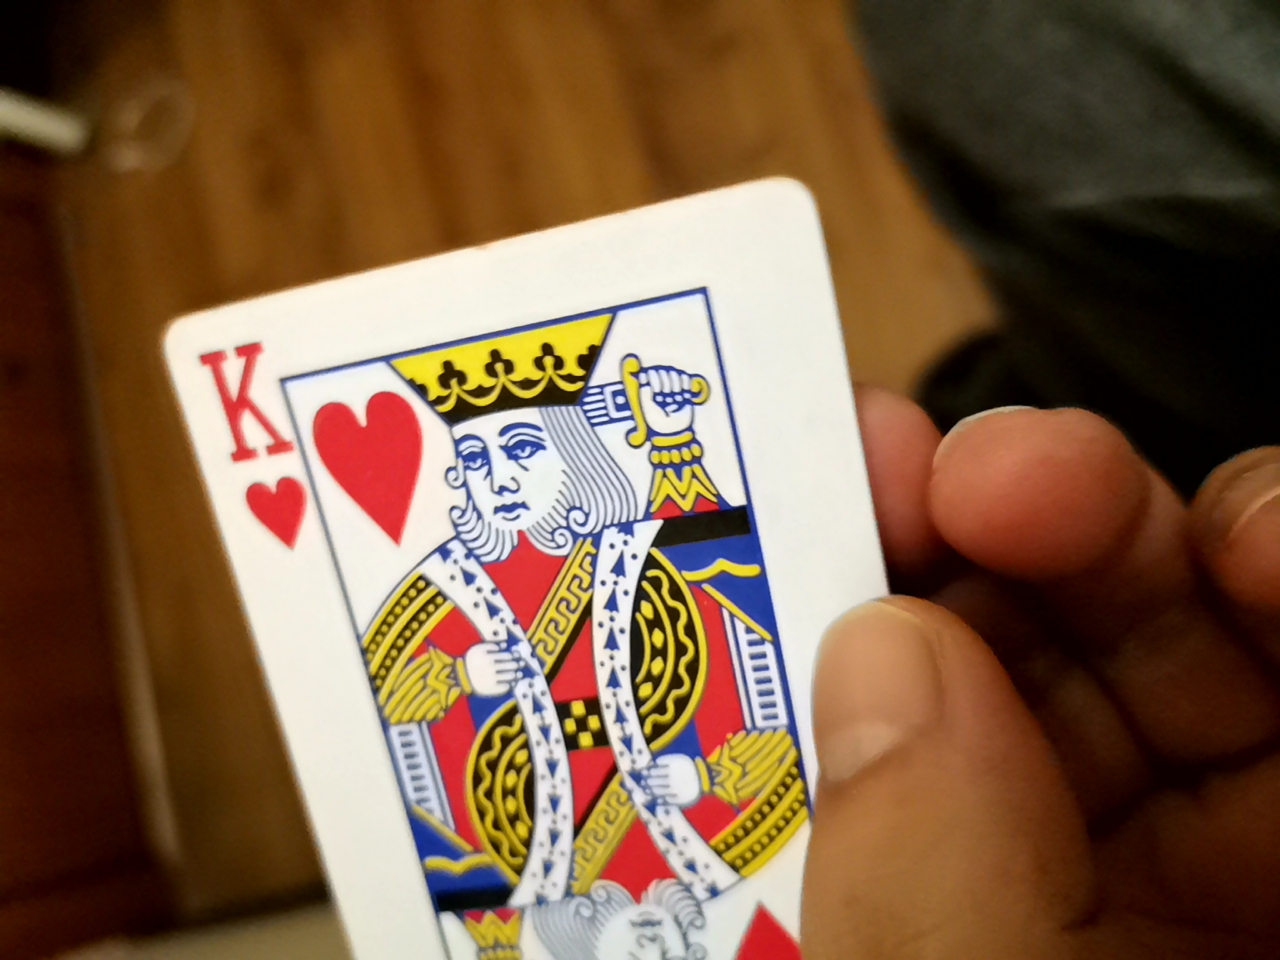hx k: (171, 202, 939, 959)
